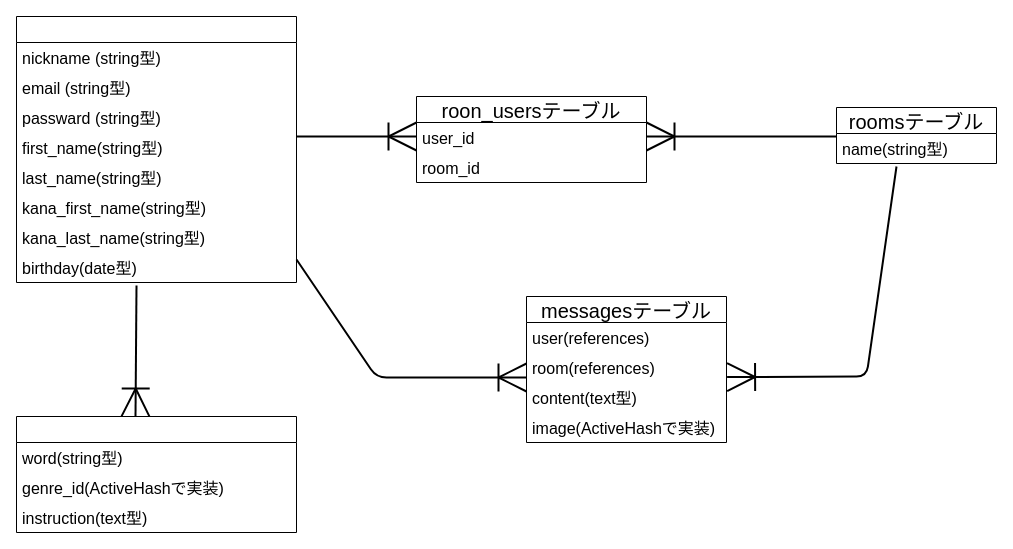
This 1013x549 diagram has some shape labels left out. Each missing label, with the box of its shape:
keywordsテーブル: (16, 416, 296, 532)
Usersテーブル: (16, 16, 296, 282)
